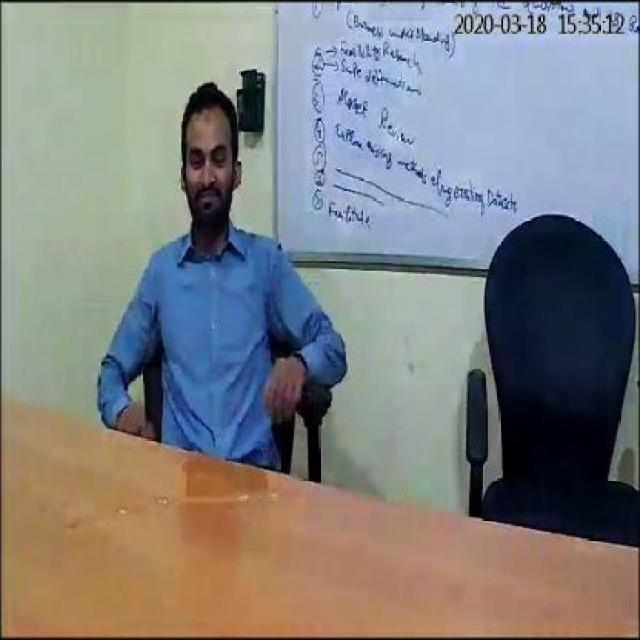spill: (56, 458, 296, 528)
